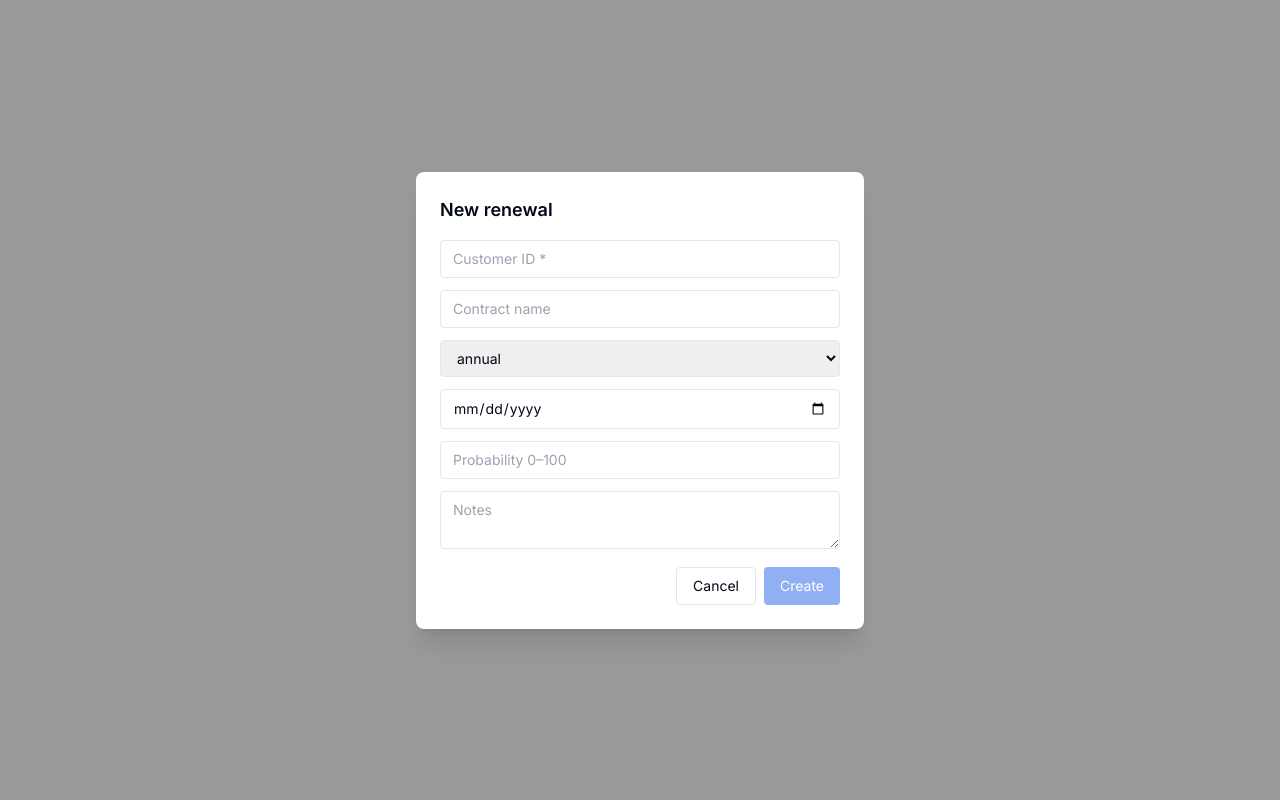
Test case: RenewalDialog › submit enabled when customer_id filled
Type "cust-abc" into the field with test id "renewal-customer-id".
click(640, 258); type("cust-abc")  # box [440,240,840,278]
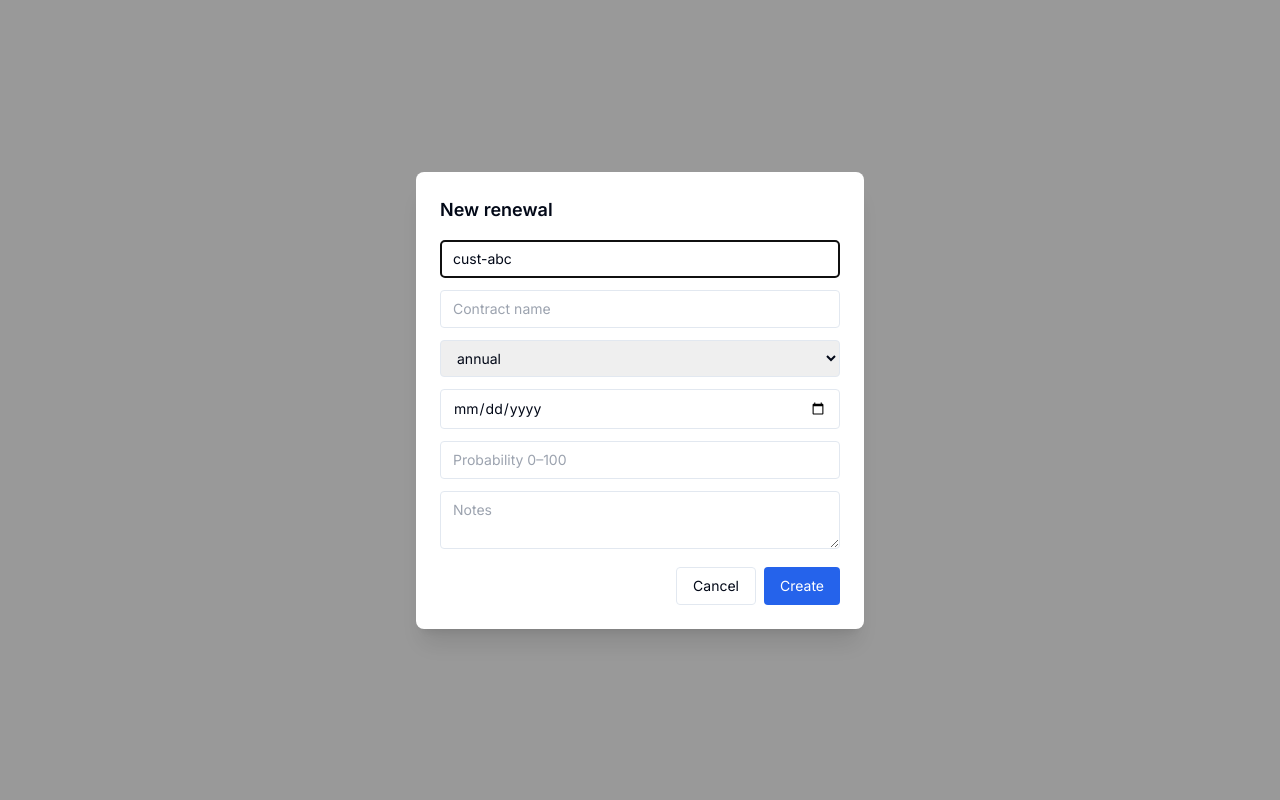
Check: the button with test id "renewal-submit" is enabled, box [764,566,840,604]
